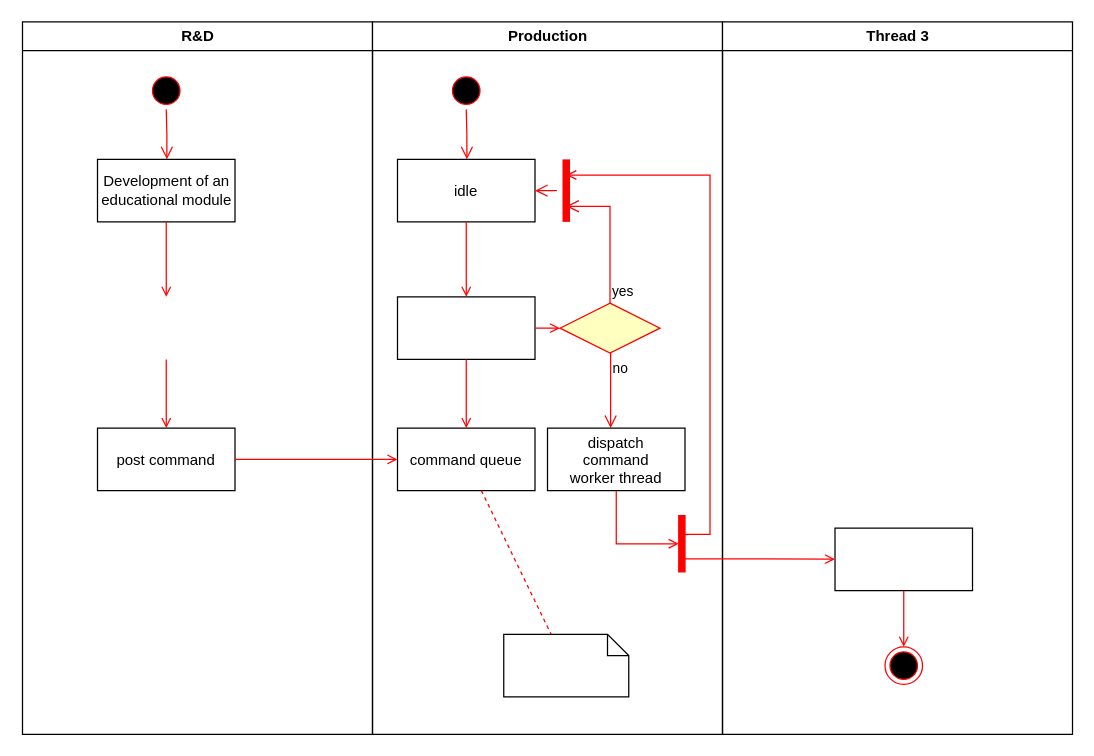
The diagram is 1094 pixels wide and 756 high, and some of its shapes have lost their labels. The shapes that lost their labels are listed below. From the top down, each one's centre as x and y in pixels, then its label:
At [465,327]: "check for new commands".
At [609,327]: "queue empty".
At [903,559]: "process command".
At [565,665]: "critical section".
